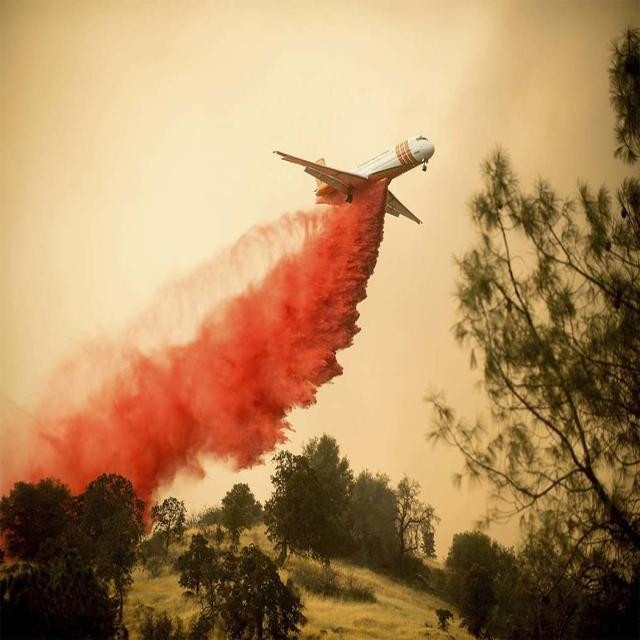Smoke: (28, 180, 390, 539)
